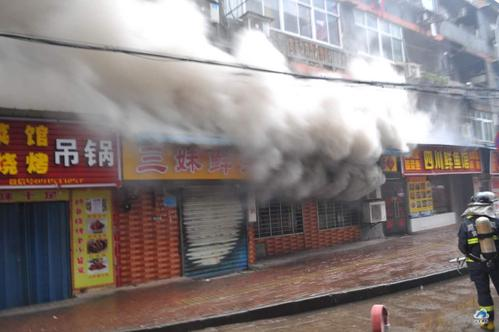smoke: (67, 34, 410, 205)
